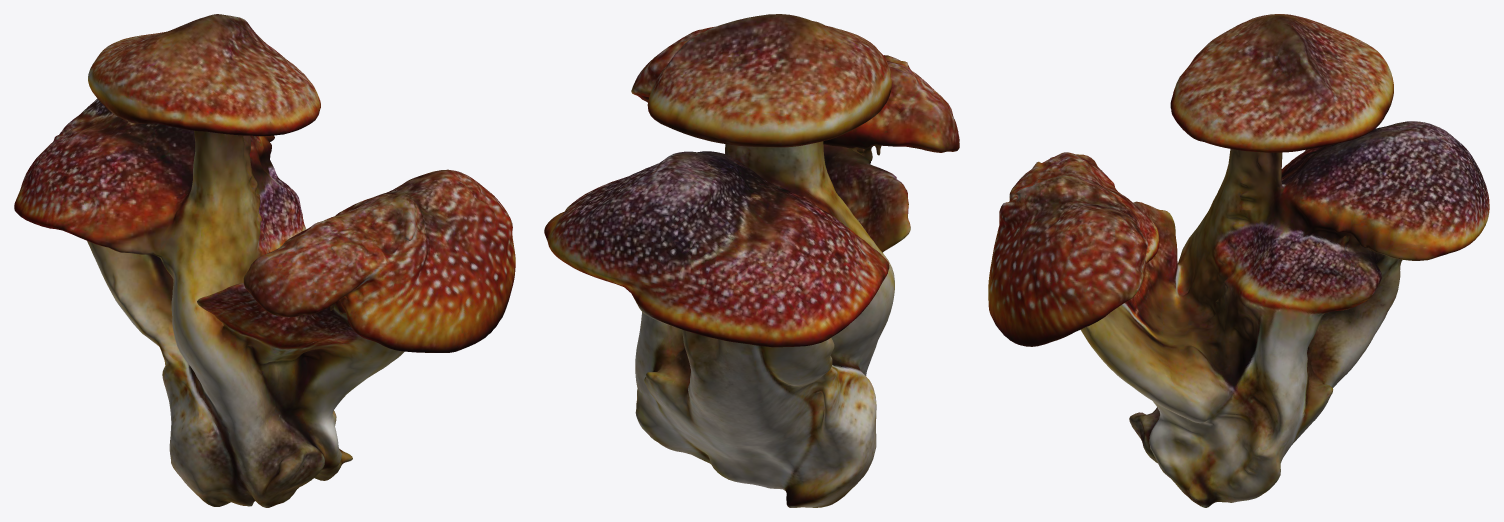
File: 2458413c8bd2_passion_mushroom_is.fbx
3 views of the same model, side by side, from view 1: azimuth 30°, elevation 25°; view 2: azimuth 150°, elevation 25°; view 3: azimuth 270°, elevation 25° (orthographic). The views are drawn at different scales.
Parts seen in each view (by area): view 1: high_poly; view 2: high_poly; view 3: high_poly.
Boxes of the visible parts, x1=… form: high_poly: x1=14, y1=14, x2=515, y2=507; high_poly: x1=544, y1=14, x2=959, y2=507; high_poly: x1=988, y1=14, x2=1489, y2=507.
Bounding box in the file's own units: 76.31 × 100 × 99.99.
